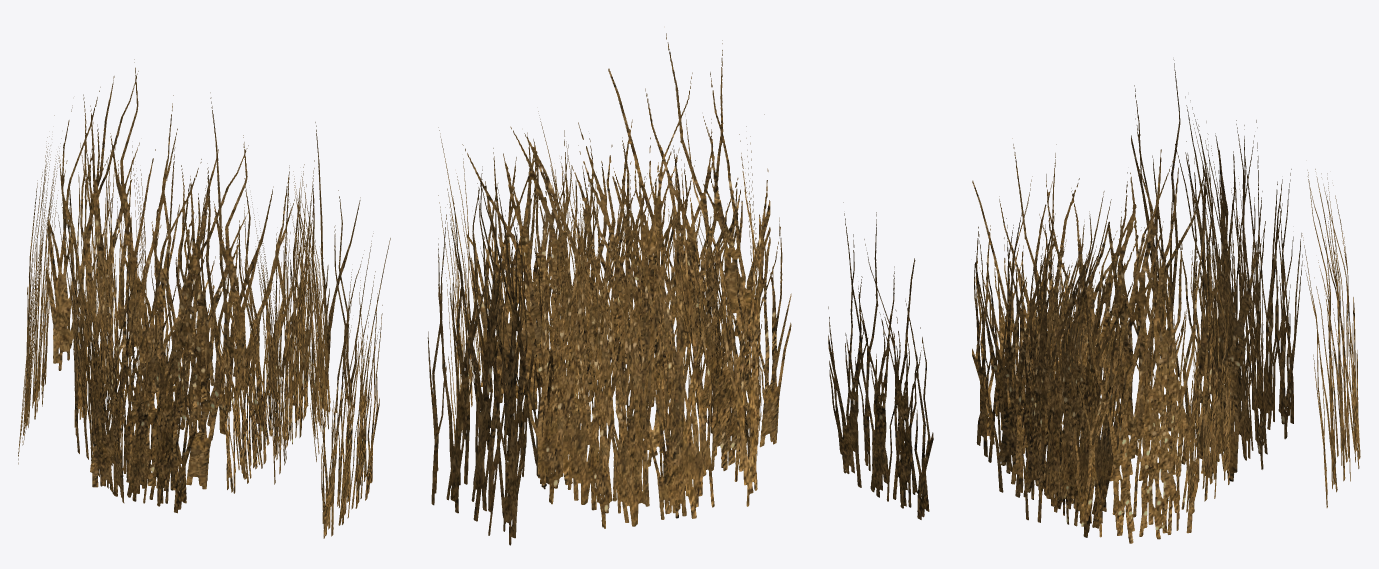
The model's file is grass_3d_02_golden_beige.glb.
3 renders of one model, left to right at view 1: azimuth 30°, elevation 25°; view 2: azimuth 150°, elevation 25°; view 3: azimuth 270°, elevation 25°, orthographic. The views are drawn at different scales.
Visible parts, largest first — view 1: grass_cards; view 2: grass_cards; view 3: grass_cards.
Part boxes in pixels (box(x1,y1,x2,y2)): grass_cards: box(18, 59, 390, 538); grass_cards: box(427, 33, 791, 545); grass_cards: box(828, 59, 1360, 543).
Size of the model in its own units: 0.611 by 0.6851 by 0.8281.
1 material, 1 textured.
